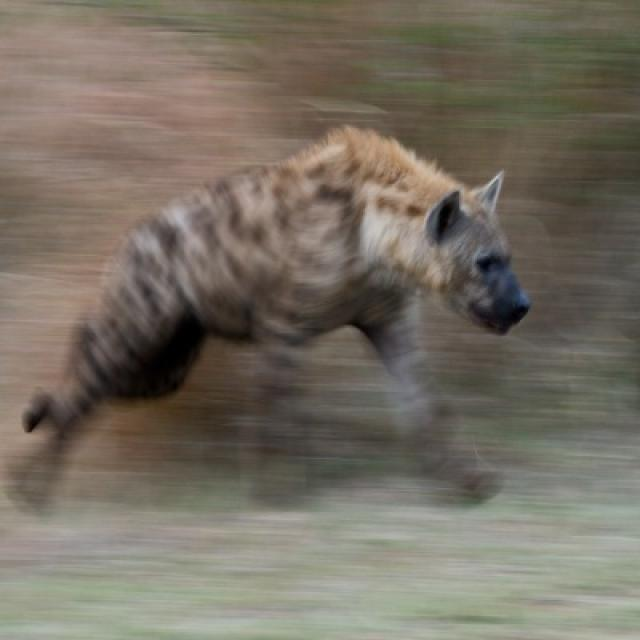hyena: (22, 126, 530, 499)
